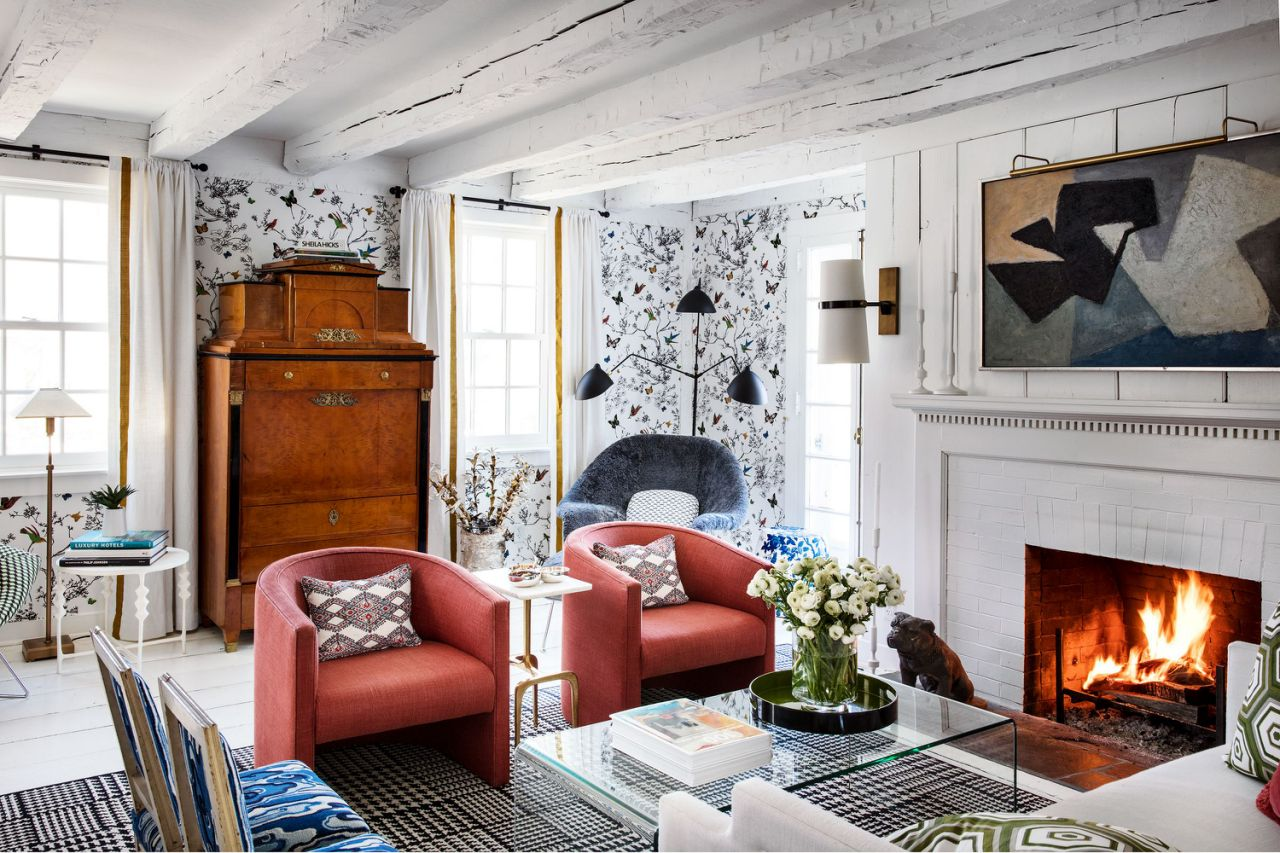Bantal: (888, 812, 1185, 853), (303, 569, 422, 654), (592, 536, 700, 604), (622, 485, 700, 534)
Buku: (610, 697, 776, 776), (66, 530, 172, 569)
Lukisan: (968, 124, 1280, 372)
Meja: (526, 690, 1025, 811)
Sova: (252, 546, 512, 783), (569, 521, 776, 697)
Tanaman: (749, 553, 902, 705), (88, 483, 139, 529)
lampu: (810, 251, 902, 370), (14, 383, 95, 456)
